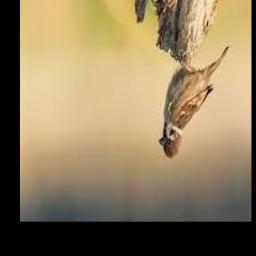Sparrow: (159, 45, 230, 159)
